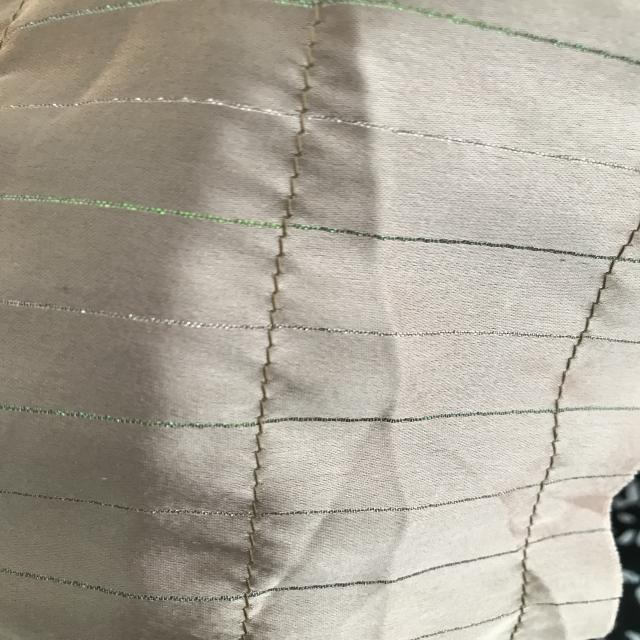good: (273, 132, 317, 207), (265, 240, 303, 321), (244, 430, 274, 510), (253, 339, 285, 413)
